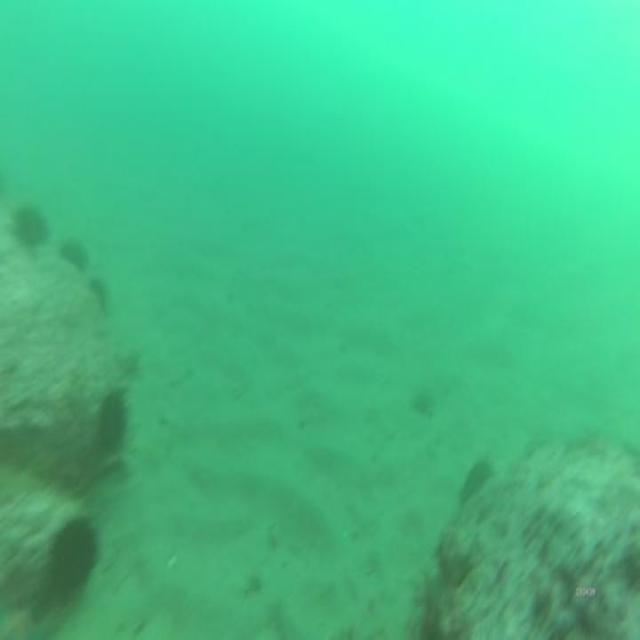echinus: (52, 521, 98, 588), (100, 397, 126, 452), (14, 205, 47, 245), (62, 236, 88, 266)
